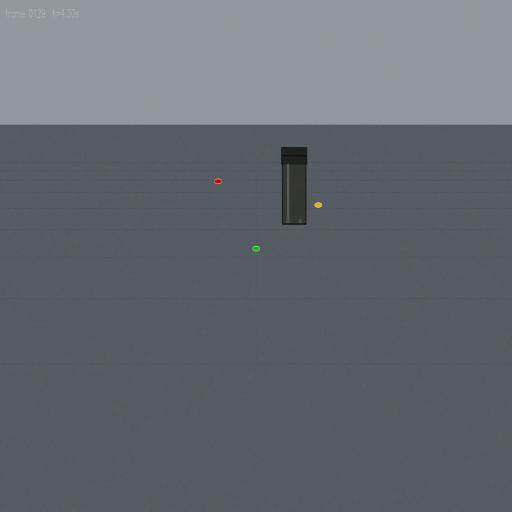bin: (280, 146, 308, 225)
